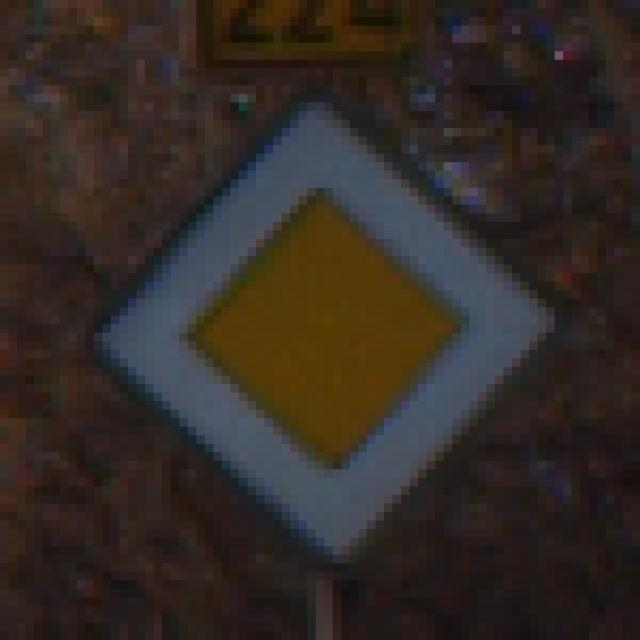Main Road: (52, 52, 590, 590)
